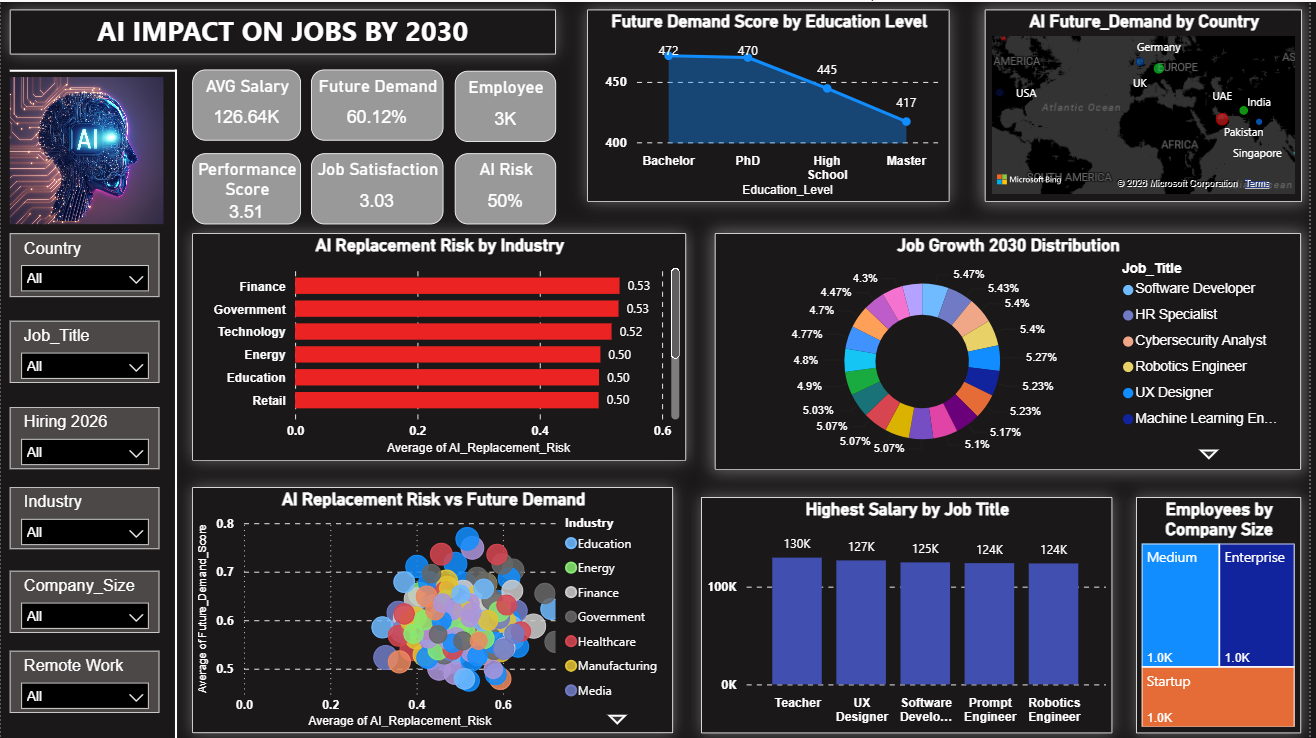

The dashboard page shown, as its layout file describes it:
{"tool":"powerbi","page":{"name":"Page 1","canvas":[1280,720],"ordinal":0},"visuals":[{"type":"clusteredColumnChart","title":"Highest Salary by Job Title","fields":{"Category":["AI_Impact_on_Jobs_2030.Job_Title"],"Y":["Avg(AI_Impact_on_Jobs_2030.Average_Salary_USD)"]},"box":[684.8,484.2,402.3,231.1],"z":0},{"type":"clusteredBarChart","title":"AI Replacement Risk by Industry","fields":{"Y":["Avg(AI_Impact_on_Jobs_2030.AI_Replacement_Risk)"],"Category":["AI_Impact_on_Jobs_2030.Industry"]},"box":[187.1,226.2,483,222.6],"z":1000},{"type":"donutChart","title":"Job Growth 2030 Distribution","fields":{"Category":["AI_Impact_on_Jobs_2030.Job_Title","AI_Impact_on_Jobs_2030.Job_Growth_2030"],"Y":["CountNonNull(AI_Impact_on_Jobs_2030.Employee_ID)"]},"box":[698.2,226.2,573.5,231.1],"z":2000},{"type":"treemap","title":"Employees by Company Size","fields":{"Group":["AI_Impact_on_Jobs_2030.Company_Size"],"Values":["CountNonNull(AI_Impact_on_Jobs_2030.Employee_ID)"]},"box":[1110.3,484.2,161.4,231.1],"z":3000},{"type":"lineChart","title":"Future Demand Score by Education Level","fields":{"Category":["AI_Impact_on_Jobs_2030.Education_Level"],"Y":["Sum(AI_Impact_on_Jobs_2030.Future_Demand_Score)"]},"box":[573.5,7.3,354.6,188.3],"z":4000},{"type":"scatterChart","title":"AI Replacement Risk vs Future Demand","fields":{"X":["Avg(AI_Impact_on_Jobs_2030.AI_Replacement_Risk)"],"Y":["Avg(AI_Impact_on_Jobs_2030.Future_Demand_Score)"],"Category":["AI_Impact_on_Jobs_2030.Job_Title"],"Series":["AI_Impact_on_Jobs_2030.Industry"],"Size":["Avg(AI_Impact_on_Jobs_2030.Average_Salary_USD)"]},"box":[187.1,474.5,470.8,240.9],"z":5000},{"type":"map","title":"AI Future_Demand by Country","fields":{"Category":["AI_Impact_on_Jobs_2030.Country"],"Size":["Sum(AI_Impact_on_Jobs_2030.Future_Demand_Score)"]},"box":[962.4,7.3,310.6,188.3],"z":6000},{"type":"slicer","fields":{"Values":["AI_Impact_on_Jobs_2030.Remote_Work_Possibility"]},"box":[8.6,634.7,146.7,61.1],"z":7000},{"type":"slicer","fields":{"Values":["AI_Impact_on_Jobs_2030.Industry"]},"box":[8.6,474.5,146.7,61.1],"z":8000},{"type":"slicer","fields":{"Values":["AI_Impact_on_Jobs_2030.Job_Title"]},"box":[8.6,311.8,146.7,61.1],"z":9000},{"type":"textbox","box":[8.6,7.3,534.4,44],"z":10000},{"type":"slicer","fields":{"Values":["AI_Impact_on_Jobs_2030.Hiring_Trend_2026"]},"box":[8.6,396.2,146.7,61.1],"z":11000},{"type":"cardVisual","title":"AI Risk","fields":{"Data":["AI_Impact_on_Jobs_2030.Avg AI Risk"]},"box":[443.9,148,99,69.7],"z":12000},{"type":"cardVisual","title":"Future Demand","fields":{"Data":["AI_Impact_on_Jobs_2030.Avg Future Demand"]},"box":[303.3,66,129.6,69.7],"z":13000},{"type":"cardVisual","title":"Job Satisfaction","fields":{"Data":["Avg(AI_Impact_on_Jobs_2030.Job_Satisfaction)"]},"box":[303.3,148,129.6,69.7],"z":14000},{"type":"cardVisual","title":"Employee","fields":{"Data":["CountNonNull(AI_Impact_on_Jobs_2030.Employee_ID)"]},"box":[443.9,67.3,99,69.7],"z":15000},{"type":"cardVisual","title":"AVG Salary","fields":{"Data":["AI_Impact_on_Jobs_2030.Avg Salary"]},"box":[187.1,66,106.4,69.7],"z":15001},{"type":"cardVisual","title":"Performance Score","fields":{"Data":["Avg(AI_Impact_on_Jobs_2030.Performance_Score)"]},"box":[187.1,148,106.4,69.7],"z":15002},{"type":"slicer","fields":{"Values":["AI_Impact_on_Jobs_2030.Country"]},"box":[8.6,226.2,146.7,62.4],"z":15003},{"type":"slicer","fields":{"Values":["AI_Impact_on_Jobs_2030.Company_Size"]},"box":[8.6,556.4,146.7,61.1],"z":15004},{"type":"shape","box":[155.3,66,31.8,654.2],"z":15005},{"type":"shape","box":[8.6,61.1,162.6,12.2],"z":15006},{"type":"image","box":[8.6,73.4,150.4,144.3],"z":15007}]}

Visuals, with their boxes in screenshot pixels (x1, y1, x2, y2), scaled from the page's 1280x720 canvas onto the 1316x738 screenshot:
"Highest Salary by Job Title" clusteredColumnChart: box=[704, 496, 1118, 733]
"AI Replacement Risk by Industry" clusteredBarChart: box=[192, 232, 689, 460]
"Job Growth 2030 Distribution" donutChart: box=[718, 232, 1307, 469]
"Employees by Company Size" treemap: box=[1142, 496, 1307, 733]
"Future Demand Score by Education Level" lineChart: box=[590, 7, 954, 200]
"AI Replacement Risk vs Future Demand" scatterChart: box=[192, 486, 676, 733]
"AI Future_Demand by Country" map: box=[989, 7, 1309, 200]
slicer - AI_Impact_on_Jobs_2030.Remote_Work_Possibility: box=[9, 651, 160, 713]
slicer - AI_Impact_on_Jobs_2030.Industry: box=[9, 486, 160, 549]
slicer - AI_Impact_on_Jobs_2030.Job_Title: box=[9, 320, 160, 382]
textbox: box=[9, 7, 558, 53]
slicer - AI_Impact_on_Jobs_2030.Hiring_Trend_2026: box=[9, 406, 160, 469]
"AI Risk" cardVisual: box=[456, 152, 558, 223]
"Future Demand" cardVisual: box=[312, 68, 445, 139]
"Job Satisfaction" cardVisual: box=[312, 152, 445, 223]
"Employee" cardVisual: box=[456, 69, 558, 140]
"AVG Salary" cardVisual: box=[192, 68, 302, 139]
"Performance Score" cardVisual: box=[192, 152, 302, 223]
slicer - AI_Impact_on_Jobs_2030.Country: box=[9, 232, 160, 296]
slicer - AI_Impact_on_Jobs_2030.Company_Size: box=[9, 570, 160, 633]
shape: box=[160, 68, 192, 737]
shape: box=[9, 63, 176, 75]
image: box=[9, 75, 163, 223]
